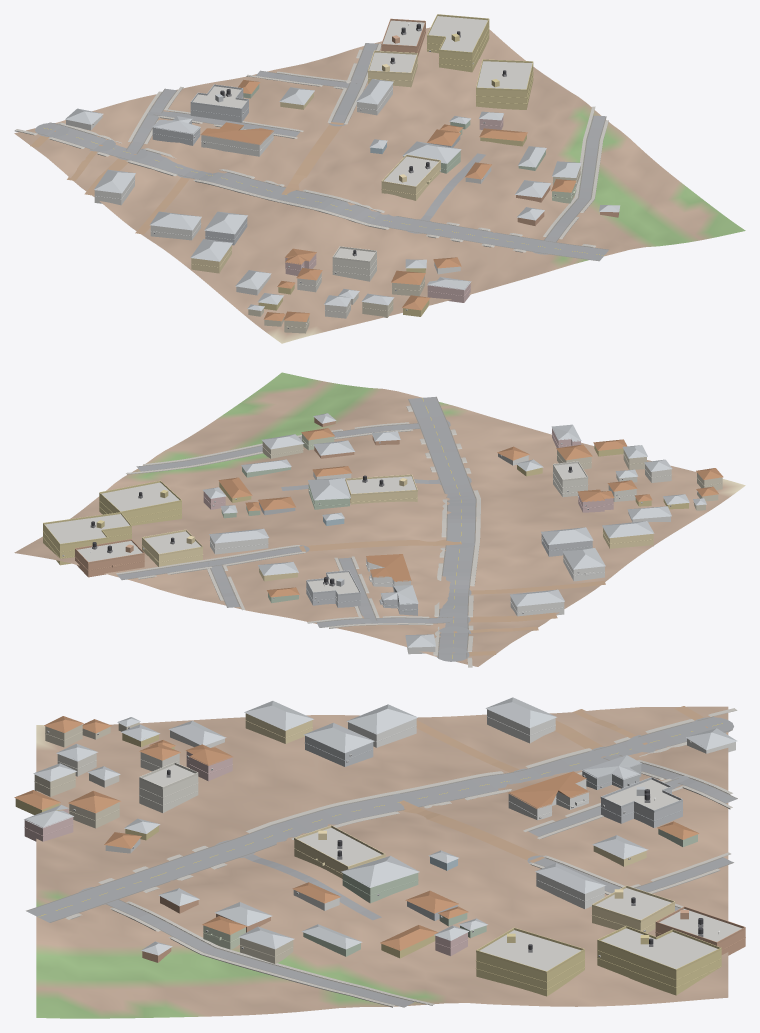
3 renders of one model, top to bottom at view 1: azimuth 30°, elevation 25°; view 2: azimuth 150°, elevation 25°; view 3: azimuth 270°, elevation 25°, orthographic. The views are drawn at different scales.
Visible parts, largest first — view 1: Terrain-col, Buildings-col, Roads-col, Sidewalks-col, Details; view 2: Terrain-col, Buildings-col, Roads-col, Details, Sidewalks-col; view 3: Terrain-col, Buildings-col, Roads-col, Details, Sidewalks-col.
Boxes of the visible parts, x1,y1,x2,y2 form: Terrain-col: [14, 27, 745, 343]; Buildings-col: [65, 16, 620, 333]; Roads-col: [30, 43, 608, 261]; Sidewalks-col: [14, 43, 608, 252]; Details: [92, 14, 580, 328]; Terrain-col: [14, 372, 745, 666]; Buildings-col: [43, 413, 723, 654]; Roads-col: [117, 396, 605, 661]; Details: [42, 433, 722, 614]; Sidewalks-col: [116, 405, 480, 667]; Terrain-col: [36, 706, 728, 1018]; Buildings-col: [14, 697, 745, 996]; Roads-col: [26, 706, 737, 1007]; Details: [24, 716, 745, 990]; Sidewalks-col: [65, 708, 737, 1007].
Bounding box in the file's own units: 260 × 19.86 × 271.
